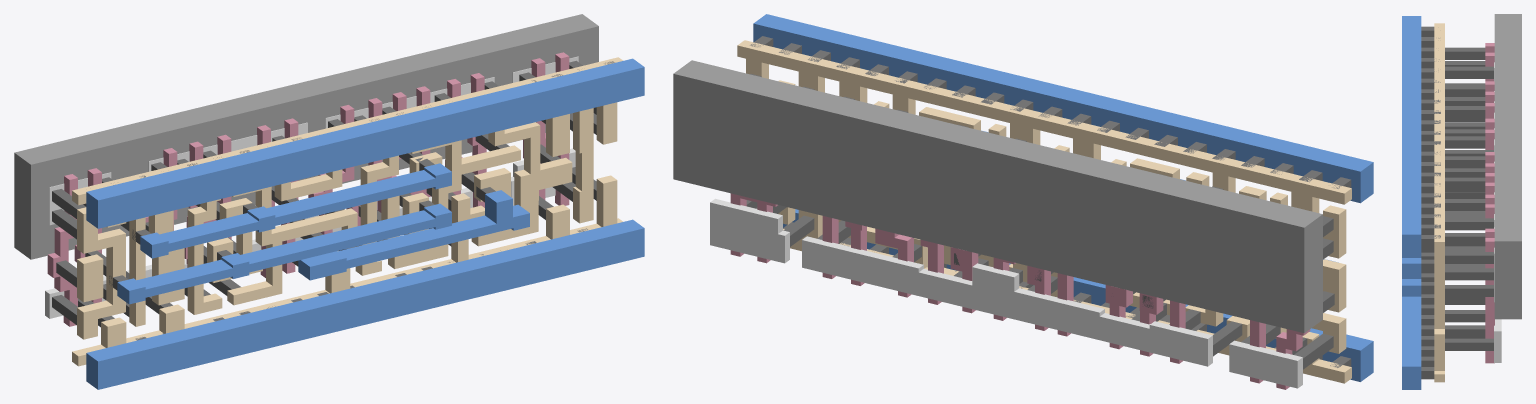
The model's file is sky130_fd_sc_hd__dfrtp_2.gds.gltf.
3 views of the same model, side by side, from view 1: azimuth 30°, elevation 25°; view 2: azimuth 150°, elevation 25°; view 3: azimuth 270°, elevation 25° (orthographic). The views are drawn at different scales.
Visible parts, largest first — view 1: sky130_fd_sc_hd__dfrtp_2_met1, sky130_fd_sc_hd__dfrtp_2_li1, sky130_fd_sc_hd__dfrtp_2_nwell, sky130_fd_sc_hd__dfrtp_2_poly, sky130_fd_sc_hd__dfrtp_2_licon, sky130_fd_sc_hd__dfrtp_2_diff, sky130_fd_sc_hd__dfrtp_2_mcon; view 2: sky130_fd_sc_hd__dfrtp_2_nwell, sky130_fd_sc_hd__dfrtp_2_li1, sky130_fd_sc_hd__dfrtp_2_diff, sky130_fd_sc_hd__dfrtp_2_met1, sky130_fd_sc_hd__dfrtp_2_poly, sky130_fd_sc_hd__dfrtp_2_mcon, sky130_fd_sc_hd__dfrtp_2_licon; view 3: sky130_fd_sc_hd__dfrtp_2_licon, sky130_fd_sc_hd__dfrtp_2_nwell, sky130_fd_sc_hd__dfrtp_2_met1, sky130_fd_sc_hd__dfrtp_2_mcon, sky130_fd_sc_hd__dfrtp_2_li1, sky130_fd_sc_hd__dfrtp_2_poly, sky130_fd_sc_hd__dfrtp_2_diff.
Part boxes in pixels (x1,y1,x2,y2): sky130_fd_sc_hd__dfrtp_2_met1: (86, 58, 644, 389); sky130_fd_sc_hd__dfrtp_2_li1: (72, 57, 622, 366); sky130_fd_sc_hd__dfrtp_2_nwell: (14, 14, 598, 259); sky130_fd_sc_hd__dfrtp_2_poly: (47, 52, 569, 326); sky130_fd_sc_hd__dfrtp_2_licon: (52, 60, 596, 327); sky130_fd_sc_hd__dfrtp_2_diff: (45, 56, 578, 318); sky130_fd_sc_hd__dfrtp_2_mcon: (109, 61, 614, 340); sky130_fd_sc_hd__dfrtp_2_nwell: (673, 60, 1322, 333); sky130_fd_sc_hd__dfrtp_2_li1: (737, 40, 1351, 383); sky130_fd_sc_hd__dfrtp_2_diff: (710, 198, 1302, 388); sky130_fd_sc_hd__dfrtp_2_met1: (753, 14, 1373, 381); sky130_fd_sc_hd__dfrtp_2_poly: (730, 193, 1310, 389); sky130_fd_sc_hd__dfrtp_2_mcon: (750, 36, 1351, 367); sky130_fd_sc_hd__dfrtp_2_licon: (746, 74, 1334, 369); sky130_fd_sc_hd__dfrtp_2_licon: (1445, 47, 1493, 350); sky130_fd_sc_hd__dfrtp_2_nwell: (1494, 14, 1521, 319); sky130_fd_sc_hd__dfrtp_2_met1: (1402, 16, 1421, 389); sky130_fd_sc_hd__dfrtp_2_mcon: (1421, 26, 1440, 379); sky130_fd_sc_hd__dfrtp_2_li1: (1434, 23, 1444, 382); sky130_fd_sc_hd__dfrtp_2_poly: (1485, 43, 1494, 363); sky130_fd_sc_hd__dfrtp_2_diff: (1494, 62, 1501, 362).
Bounding box in the file's own units: 10.04 × 3.2 × 2.24.
